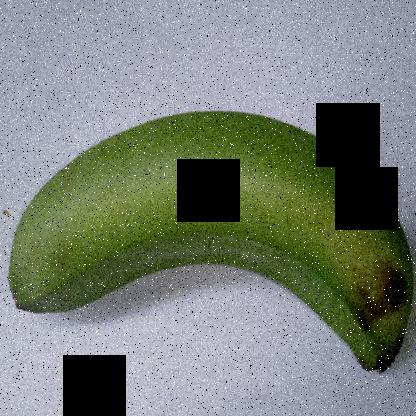freshunripe: (2, 96, 411, 387)
